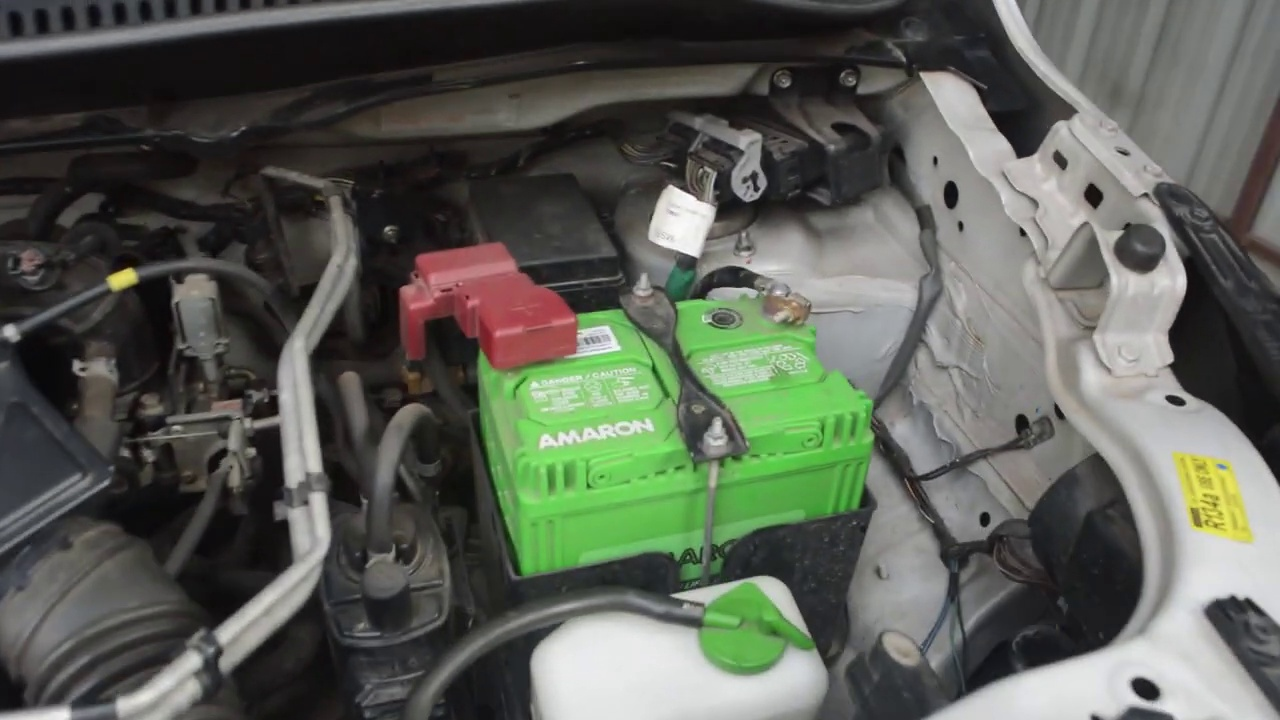battery: (417, 231, 872, 456)
neg_connected: (735, 263, 813, 328)
pos_connected: (411, 252, 587, 369)
